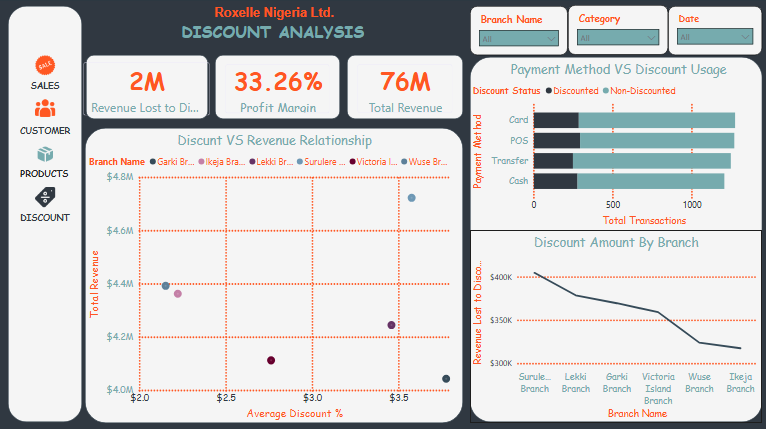

What the dashboard file says about the page in this screenshot:
{"tool":"powerbi","page":{"name":" DISCOUNT AUDIT","canvas":[1280,720],"ordinal":3},"visuals":[{"type":"shape","box":[0,0,1280.9,719.1],"z":0},{"type":"shape","box":[14.9,10.6,123.4,693.6],"z":1000},{"type":"shape","box":[155.3,91.5,197.9,106.4],"z":2000},{"type":"shape","box":[361.7,91.5,193.6,106.4],"z":3000},{"type":"shape","box":[559.6,91.5,202.1,106.4],"z":4000},{"type":"shape","box":[155.3,212.8,606.4,491.5],"z":5000},{"type":"shape","box":[785.1,95.7,487.2,608.5],"z":6000},{"type":"cardVisual","fields":{"Data":["Measures (2).Revenue Lost to Discounts"]},"box":[144.8,86.2,217.2,117.2],"z":7000},{"type":"cardVisual","fields":{"Data":["Measures (2).Total Revenue"]},"box":[562.1,91.4,201.7,113.8],"z":8000},{"type":"cardVisual","fields":{"Data":["Measures (2).Profit Margin"]},"box":[355.3,83,206.4,121.3],"z":9000},{"type":"slicer","fields":{"Values":["date.Date"]},"box":[1114.9,10.6,157.4,63.8],"z":10000},{"type":"slicer","fields":{"Values":["products.Category"]},"box":[948.9,8.5,151.1,68.1],"z":11000},{"type":"slicer","fields":{"Values":["branches.BranchName"]},"box":[785.1,10.6,146.8,66],"z":12000},{"type":"textbox","box":[155.2,0,606.9,89.7],"z":13000},{"type":"scatterChart","title":"Discunt VS Revenue Relationship","fields":{"X":["Measures (2).Average Discount"],"Y":["Measures (2).Total Revenue"],"Series":["branches.BranchName"]},"box":[155.3,212.8,606.4,491.5],"z":14000},{"type":"barChart","title":"Payment Method VS Discount Usage","fields":{"Category":["sales_transactions.PaymentMethod"],"Y":["Measures (2).Total Transactions"],"Series":["sales_transactions.Discount Status"]},"box":[785.1,95.7,495.7,287.2],"z":15000},{"type":"lineChart","title":"Discount Amount By Branch","fields":{"Category":["branches.BranchName"],"Y":["Measures (2).Revenue Lost to Discounts"]},"box":[785.1,383,487.2,321.3],"z":16000},{"type":"image","box":[60.3,91.4,34.5,34.5],"z":17000},{"type":"image","box":[60.3,239.7,34.5,34.5],"z":18000},{"type":"image","box":[60.3,312.1,34.5,34.5],"z":19000},{"type":"image","box":[60.3,163.8,34.5,34.5],"z":20000},{"type":"textbox","box":[40.9,125.9,70.7,37.9],"z":21000},{"type":"textbox","box":[24.6,201.7,103.4,37.9],"z":22000},{"type":"textbox","box":[25.4,274.1,101.7,37.9],"z":23000},{"type":"textbox","box":[28,346.6,96.6,37.9],"z":24000}]}

Visuals, with their boxes in screenshot pixels (x1, y1, x2, y2), scaled from the page's 1280x720 canvas onto the 766x429 screenshot:
shape: 0,0,765,428
shape: 9,6,83,420
shape: 93,55,211,118
shape: 216,55,332,118
shape: 335,55,456,118
shape: 93,127,456,420
shape: 470,57,761,420
cardVisual - Measures (2).Revenue Lost to Discounts: 87,51,217,121
cardVisual - Measures (2).Total Revenue: 336,54,457,122
cardVisual - Measures (2).Profit Margin: 213,49,336,122
slicer - date.Date: 667,6,761,44
slicer - products.Category: 568,5,658,46
slicer - branches.BranchName: 470,6,558,46
textbox: 93,0,456,53
"Discunt VS Revenue Relationship" scatterChart: 93,127,456,420
"Payment Method VS Discount Usage" barChart: 470,57,765,228
"Discount Amount By Branch" lineChart: 470,228,761,420
image: 36,54,57,75
image: 36,143,57,163
image: 36,186,57,207
image: 36,98,57,118
textbox: 24,75,67,98
textbox: 15,120,77,143
textbox: 15,163,76,186
textbox: 17,207,75,229
